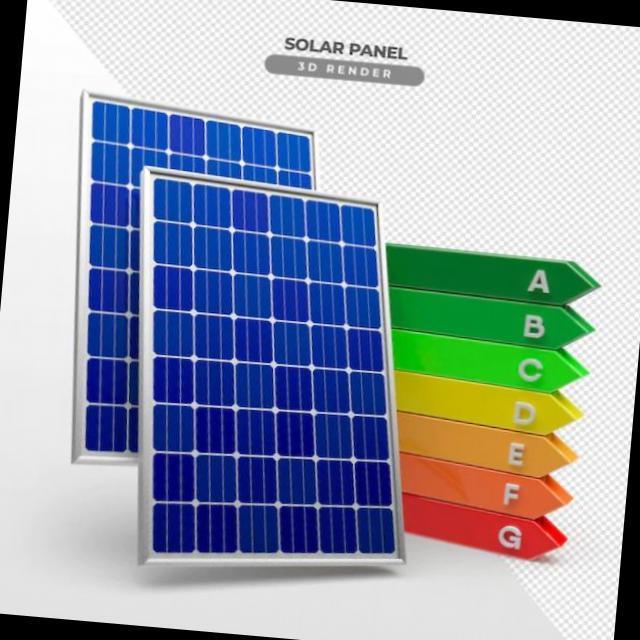no faulty: (137, 199, 394, 525)
